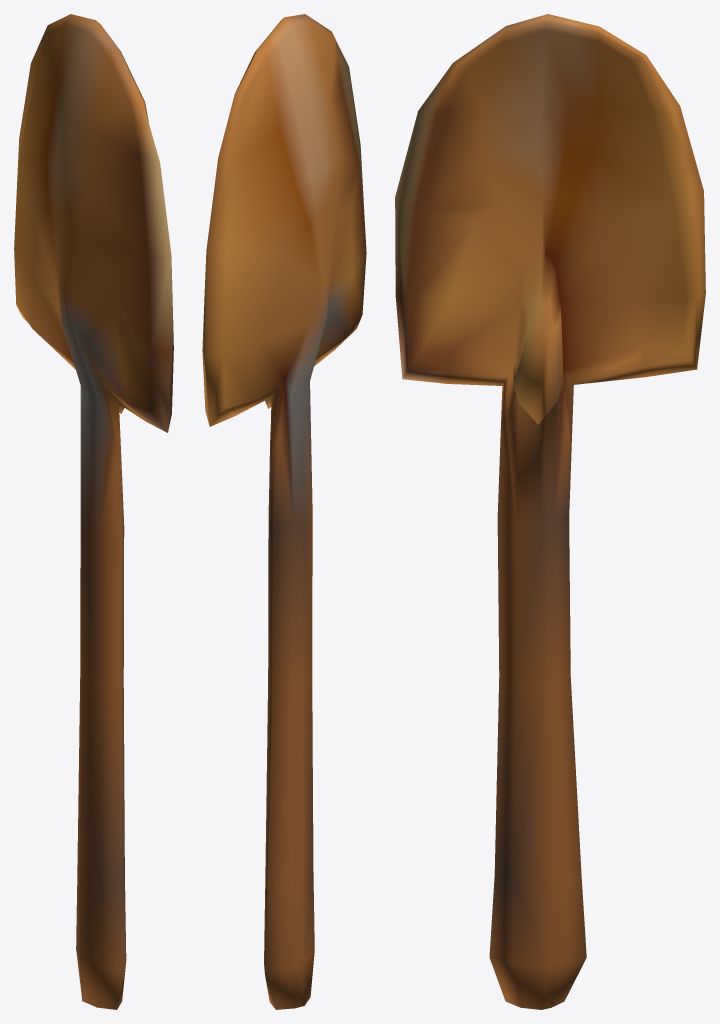
File: BronzeShovel.fbx
3 renders of one model, left to right at view 1: azimuth 30°, elevation 25°; view 2: azimuth 150°, elevation 25°; view 3: azimuth 270°, elevation 25°, orthographic.
Visible parts, largest first — view 1: Plane.018; view 2: Plane.018; view 3: Plane.018.
Boxes of the visible parts, x1,y1,x2,y2 form: Plane.018: (14,14,173,1009); Plane.018: (202,14,366,1009); Plane.018: (395,14,705,1009).
Bounding box in the file's own units: 34.94 × 545 × 155.
